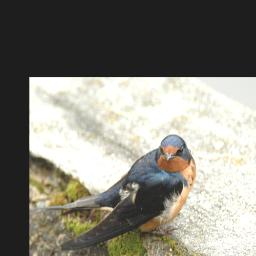Swallow: (30, 133, 197, 250)
